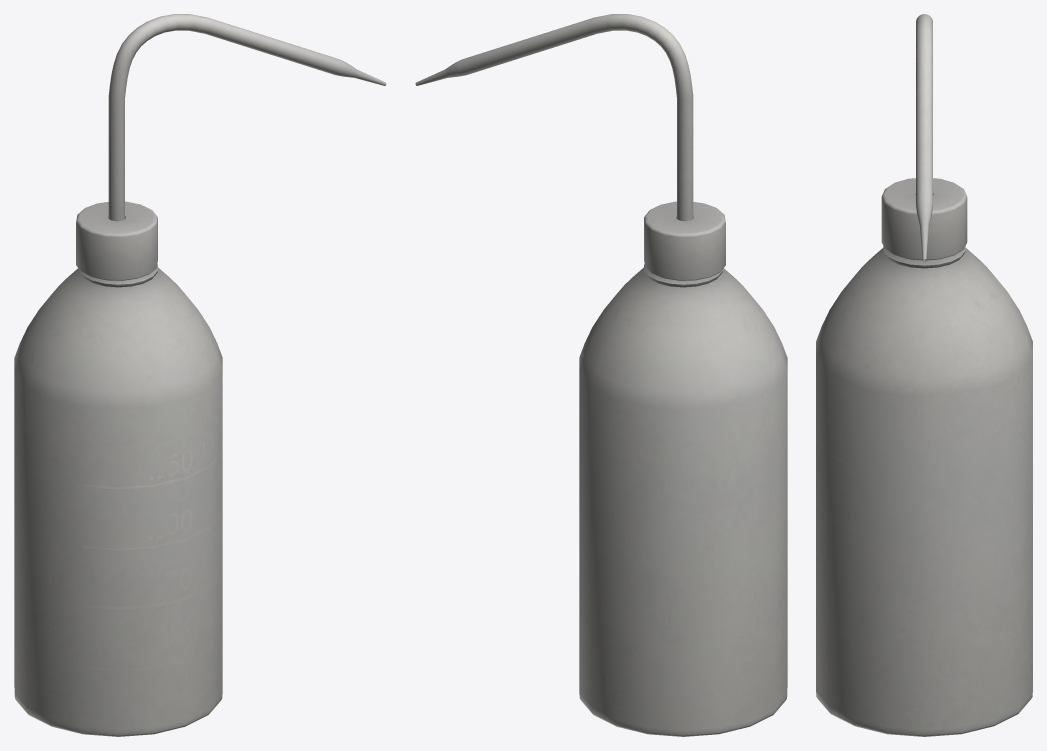
The model's file is pissette.glb.
3 renders of one model, left to right at view 1: azimuth 30°, elevation 25°; view 2: azimuth 150°, elevation 25°; view 3: azimuth 270°, elevation 25°, orthographic. The views are drawn at different scales.
Visible parts, largest first — view 1: model_0; view 2: model_0; view 3: model_0.
Part boxes in pixels (<box>): model_0: <box>14,14,386,736</box>; model_0: <box>415,14,787,736</box>; model_0: <box>816,14,1032,736</box>.
Size of the model in its own units: 0.1001 by 0.1774 by 0.0503.
1 material, 1 textured.
